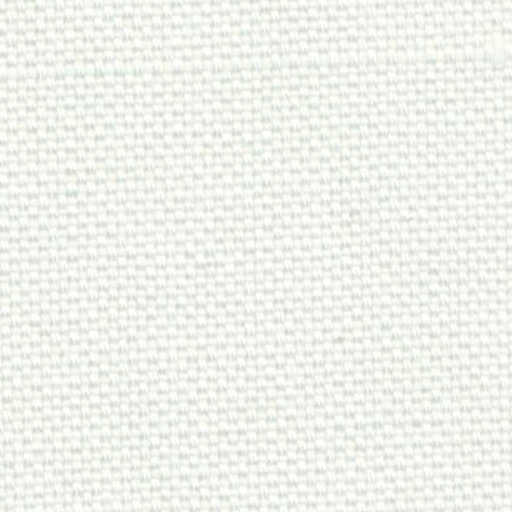TuoSha: (16, 19, 492, 98)
